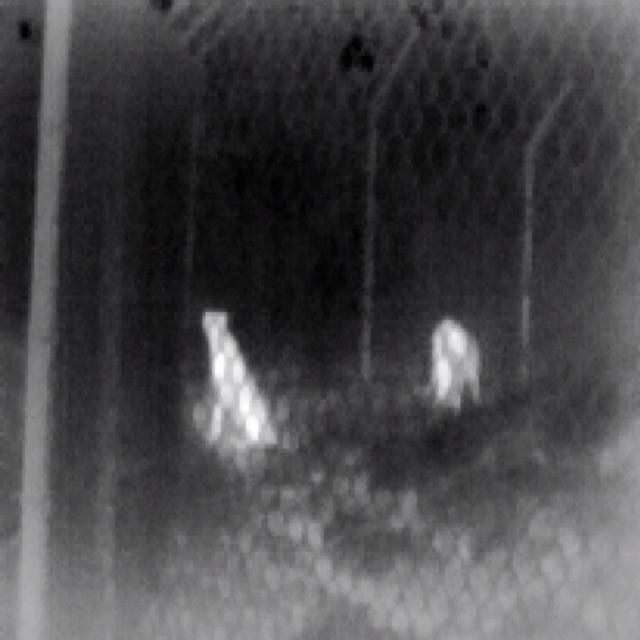cheetah: (197, 311, 268, 444), (416, 317, 481, 413)
